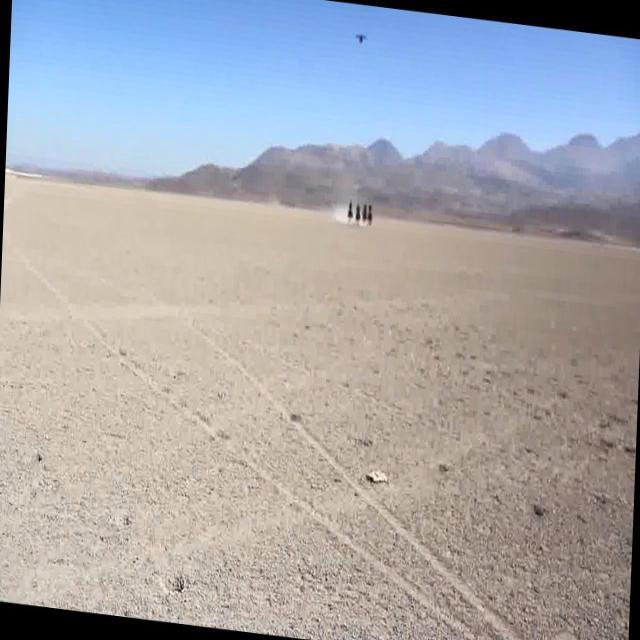drone: (353, 27, 370, 50)
